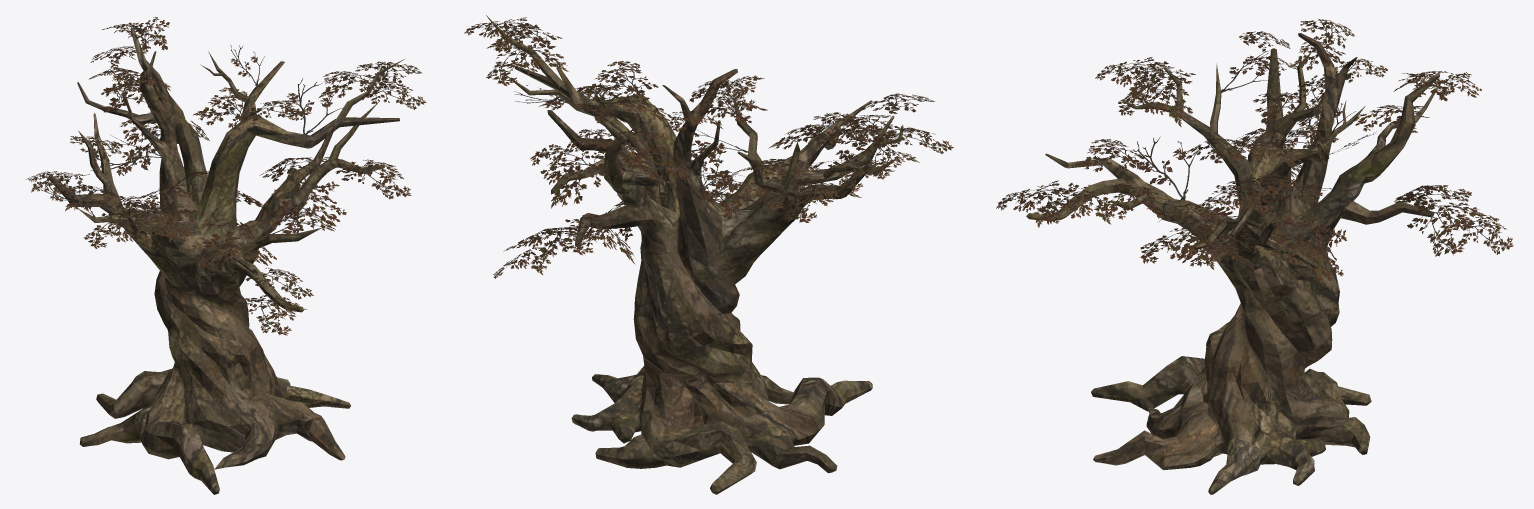
Rendered from bg_anh_tree_te_t41_sm_old.FBX.
3 renders of one model, left to right at view 1: azimuth 30°, elevation 25°; view 2: azimuth 150°, elevation 25°; view 3: azimuth 270°, elevation 25°, orthographic. The views are drawn at different scales.
Parts seen in each view (by area): view 1: bg_anh_tree_te_t41_sm_old; view 2: bg_anh_tree_te_t41_sm_old; view 3: bg_anh_tree_te_t41_sm_old.
Part boxes in pixels (box(x1,y1,x2,y2)): bg_anh_tree_te_t41_sm_old: box(26, 17, 426, 494); bg_anh_tree_te_t41_sm_old: box(464, 15, 953, 494); bg_anh_tree_te_t41_sm_old: box(996, 19, 1513, 494).
Bounding box in the file's own units: 793 × 654 × 810.
